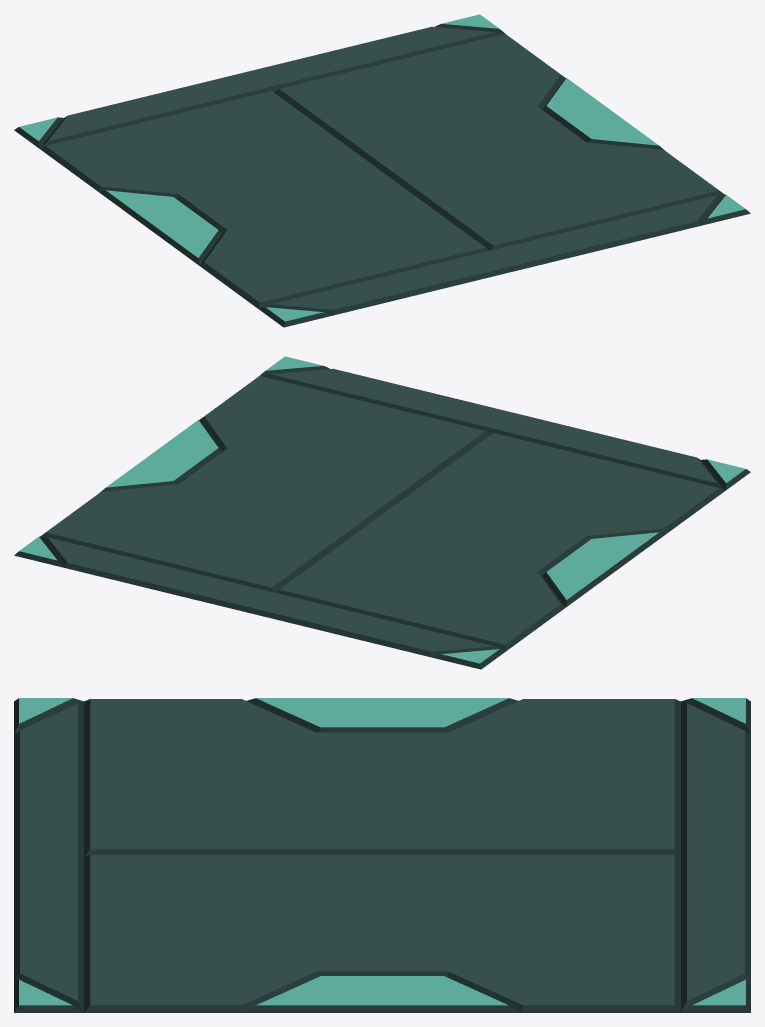
File: Ground_Var01.fbx
The picture shows the model from 3 angles, top to bottom: view 1: azimuth 30°, elevation 25°; view 2: azimuth 150°, elevation 25°; view 3: azimuth 270°, elevation 25°; orthographic projection. The views are drawn at different scales.
Parts seen in each view (by area): view 1: Ground_Var01; view 2: Ground_Var01; view 3: Ground_Var01.
Part boxes in pixels (bbox=[...]): Ground_Var01: bbox=[14, 14, 750, 327]; Ground_Var01: bbox=[14, 356, 750, 669]; Ground_Var01: bbox=[14, 698, 750, 1012].
Bounding box in the file's own units: 600 × 4.8 × 600.
